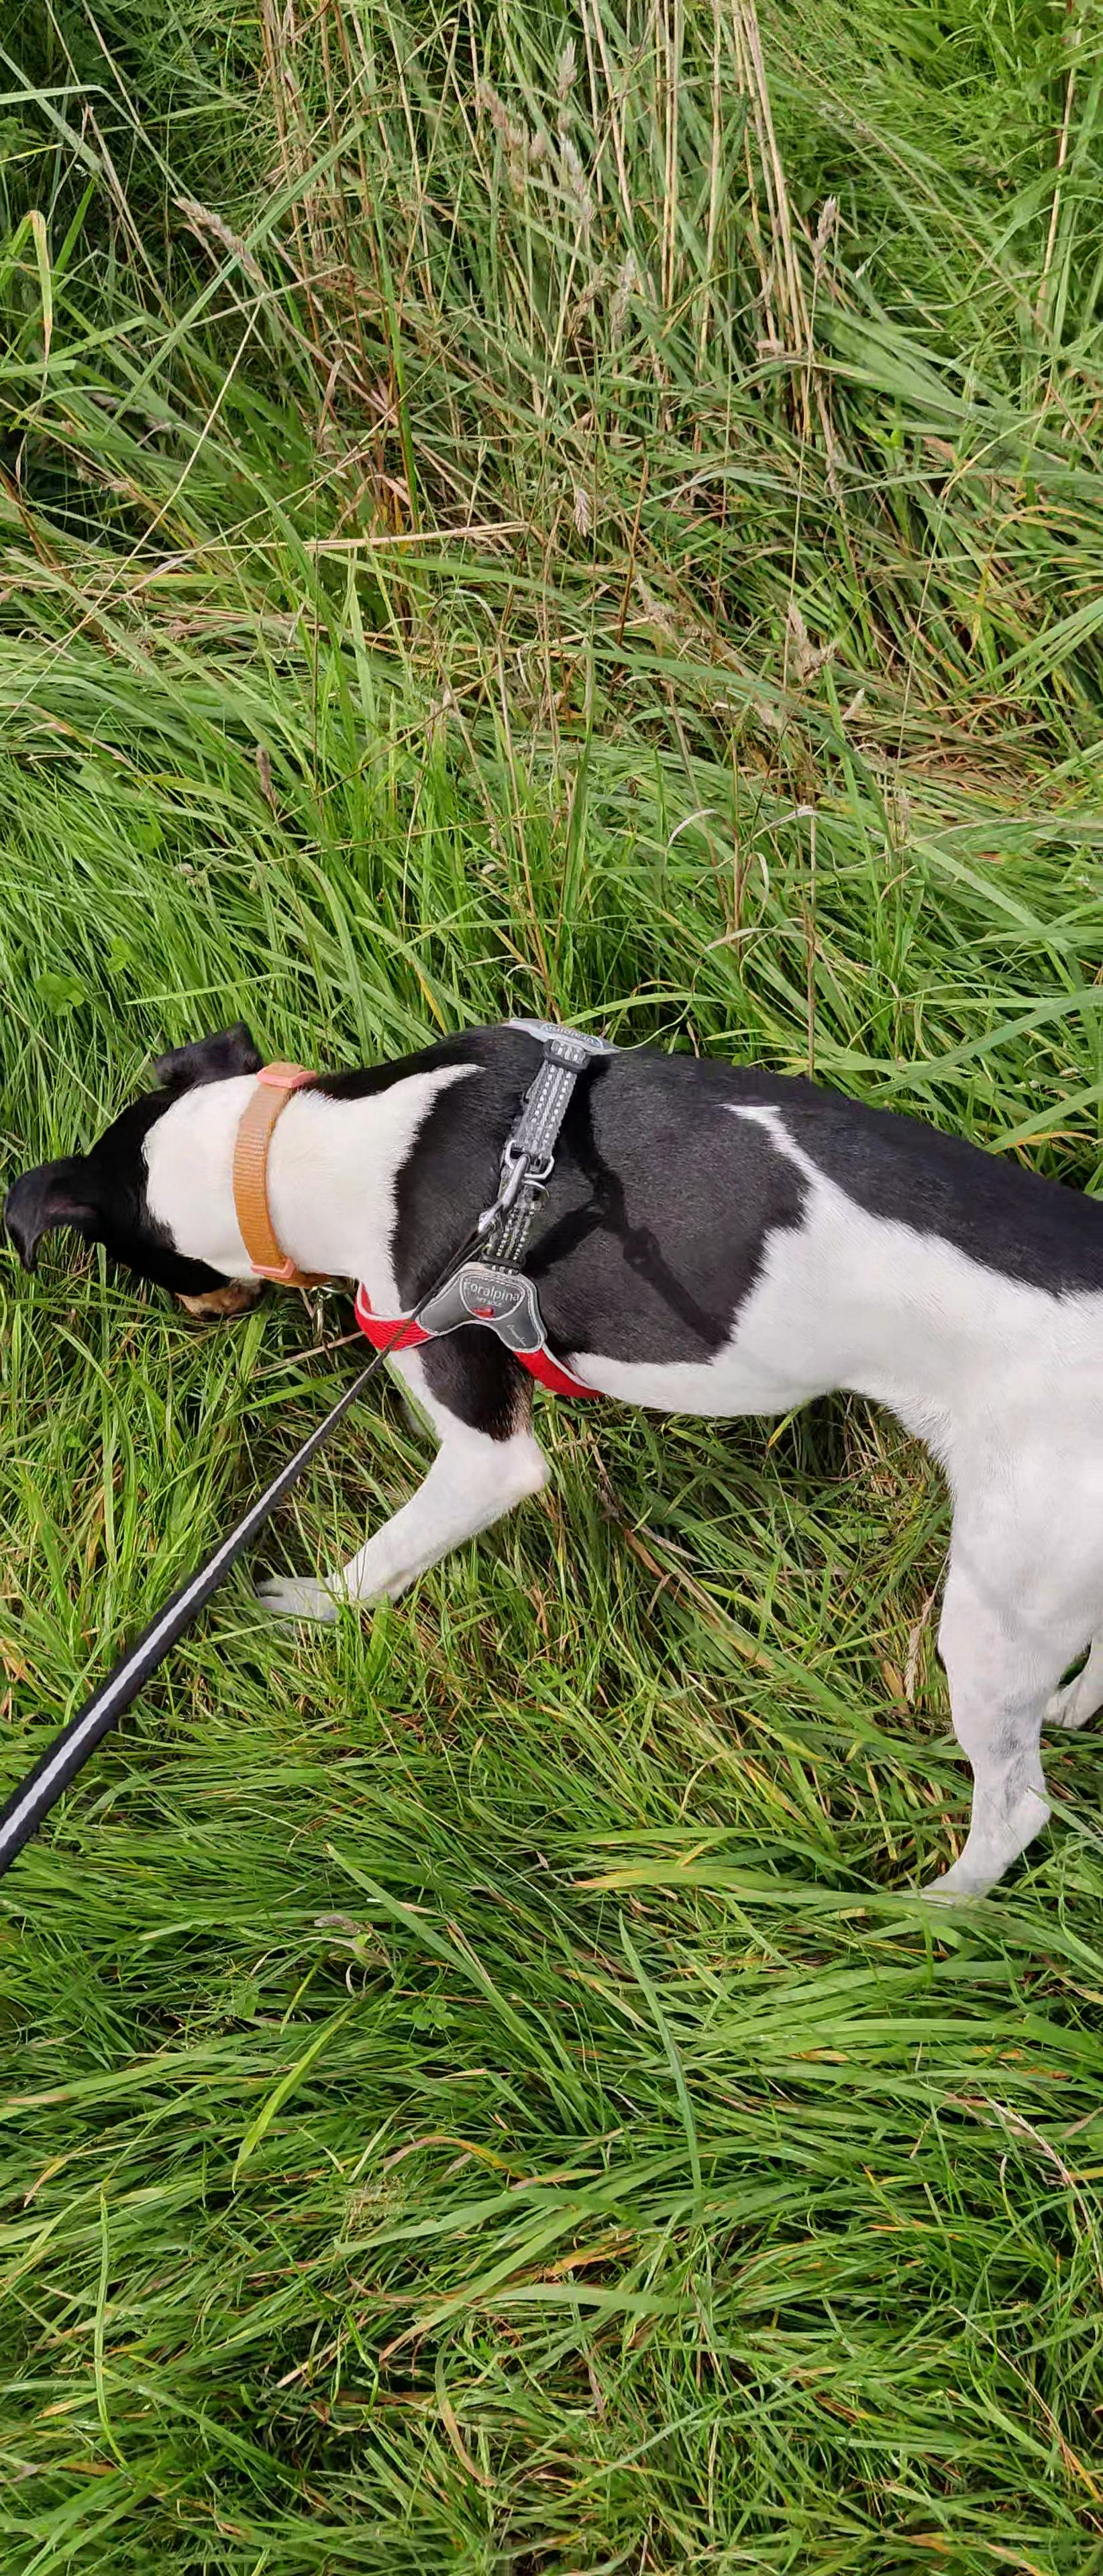Dog: (0, 997, 1103, 1911)
